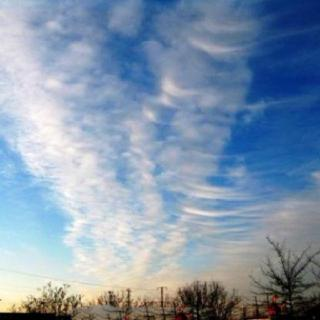Cirrus: (0, 0, 320, 282)
